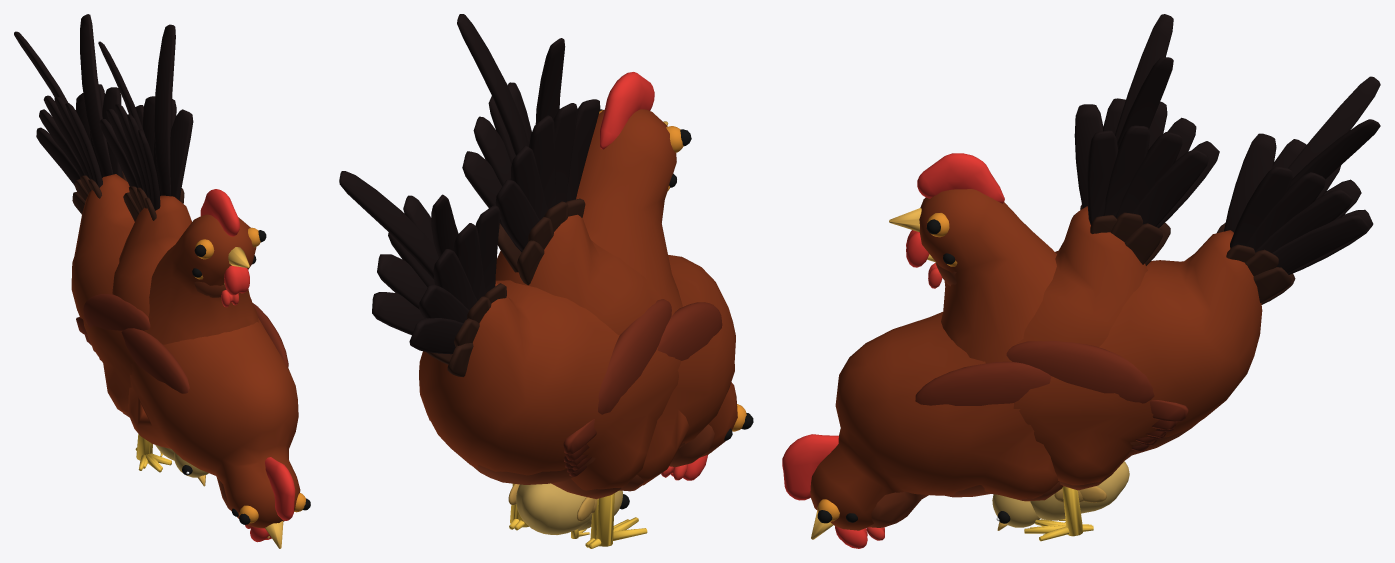
File: birds.glb
3 renders of one model, left to right at view 1: azimuth 30°, elevation 25°; view 2: azimuth 150°, elevation 25°; view 3: azimuth 270°, elevation 25°, orthographic. The views are drawn at different scales.
Parts seen in each view (by area): view 1: rooster_peck, rooster_stand, hen_stand, hen_peck, chick_peck; view 2: rooster_stand, rooster_peck, hen_stand, hen_peck, chick_stand; view 3: rooster_stand, rooster_peck, hen_peck, hen_stand, chick_peck, chick_stand.
Part boxes in pixels (box(x1,y1,x2,y2)): rooster_peck: box(98, 24, 310, 548); rooster_stand: box(14, 14, 266, 472); hen_stand: box(72, 171, 256, 469); hen_peck: box(123, 186, 269, 538); chick_peck: box(155, 445, 208, 486); rooster_stand: box(339, 72, 691, 548); rooster_peck: box(457, 14, 753, 485); hen_stand: box(426, 173, 676, 547); hen_peck: box(497, 198, 732, 491); chick_stand: box(508, 483, 595, 538); rooster_stand: box(889, 76, 1380, 541); rooster_peck: box(782, 14, 1219, 548); hen_peck: box(846, 204, 1170, 540); hen_stand: box(927, 223, 1295, 535); chick_peck: box(992, 488, 1083, 530); chick_stand: box(1059, 461, 1129, 522).
Bounding box in the file's own units: 0.2606 × 0.8125 × 0.8649.
